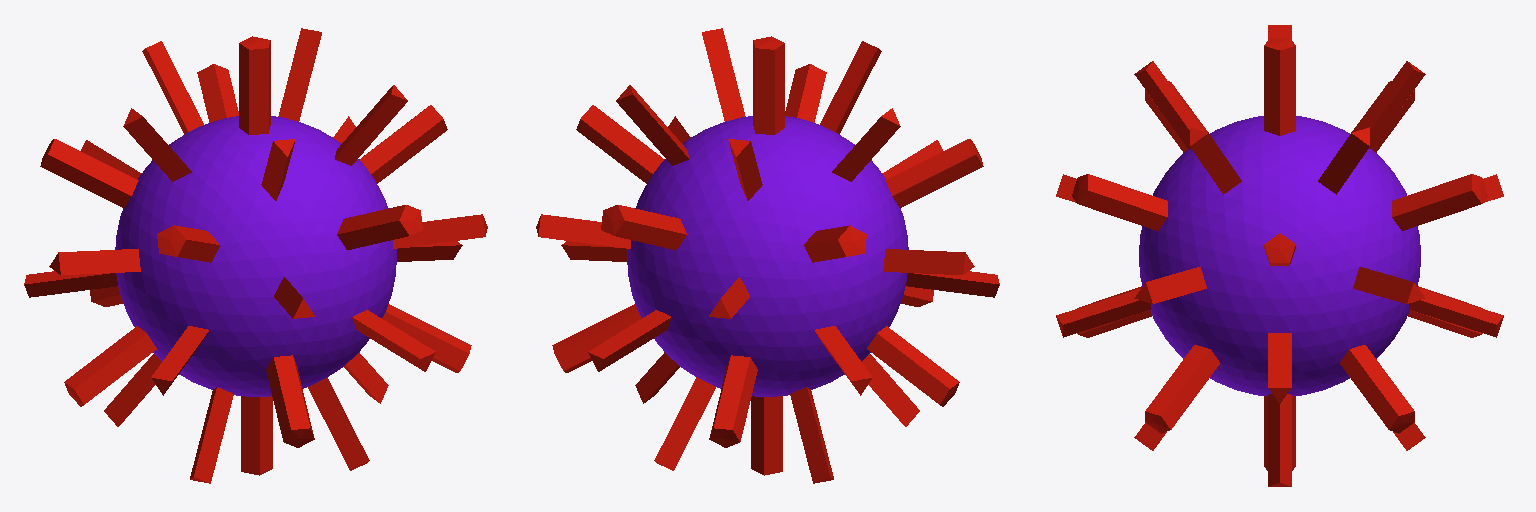
Rendered from virus_large.obj.
3 renders of one model, left to right at view 1: azimuth 30°, elevation 25°; view 2: azimuth 150°, elevation 25°; view 3: azimuth 270°, elevation 25°, orthographic.
Parts seen in each view (by area): view 1: Virus_Large_Icosphere.001; view 2: Virus_Large_Icosphere.001; view 3: Virus_Large_Icosphere.001.
Boxes of the visible parts, x1=… form: Virus_Large_Icosphere.001: x1=24, y1=28, x2=487, y2=483; Virus_Large_Icosphere.001: x1=536, y1=28, x2=999, y2=483; Virus_Large_Icosphere.001: x1=1056, y1=25, x2=1503, y2=486.
Bounding box in the file's own units: 24.62 × 25 × 23.8.